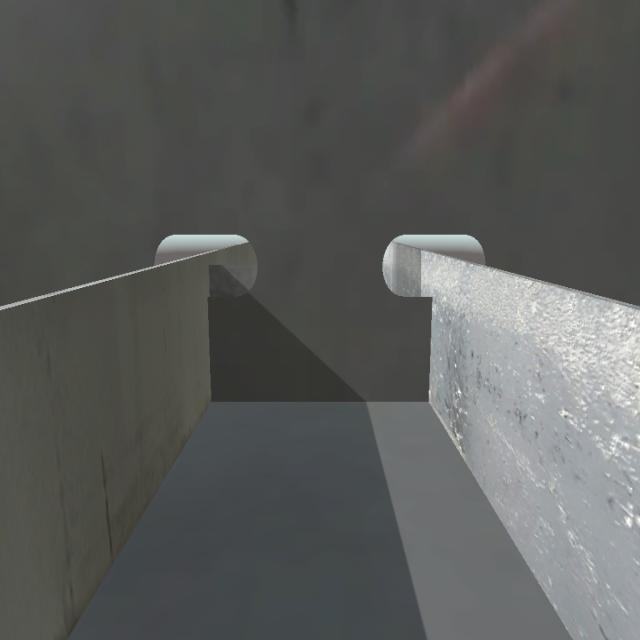fillet_yong_jeop_jang: (206, 383, 438, 418)
longi_yong_jeop_jang: (418, 281, 441, 413), (204, 264, 224, 404)
plate_behind: (208, 256, 264, 300)
